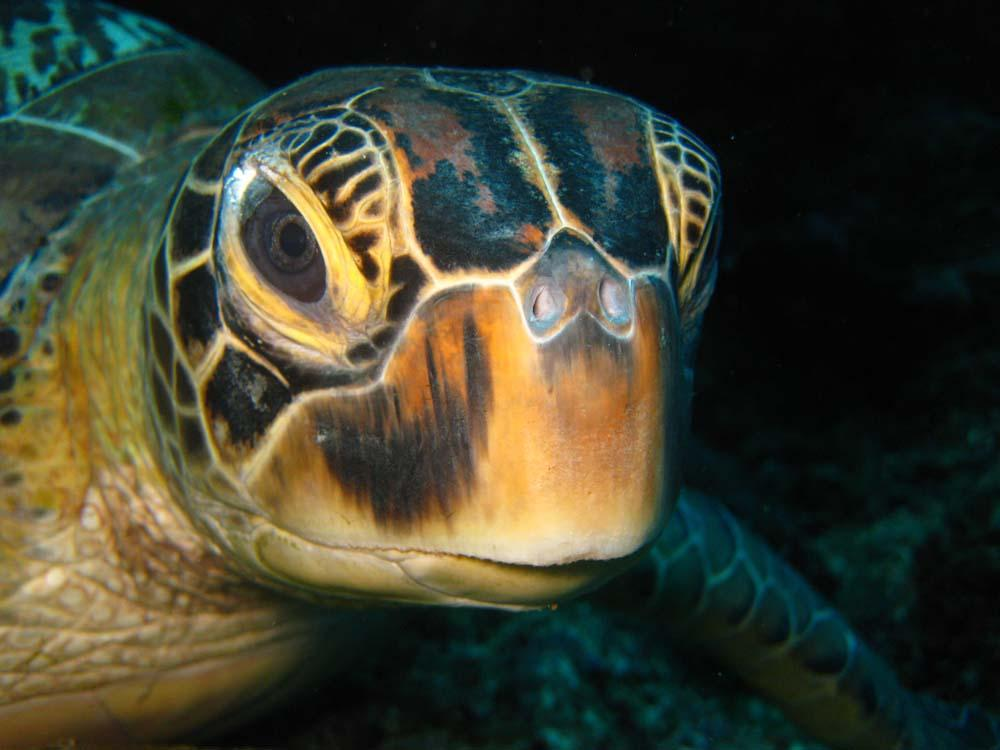turtle: (126, 37, 736, 628)
